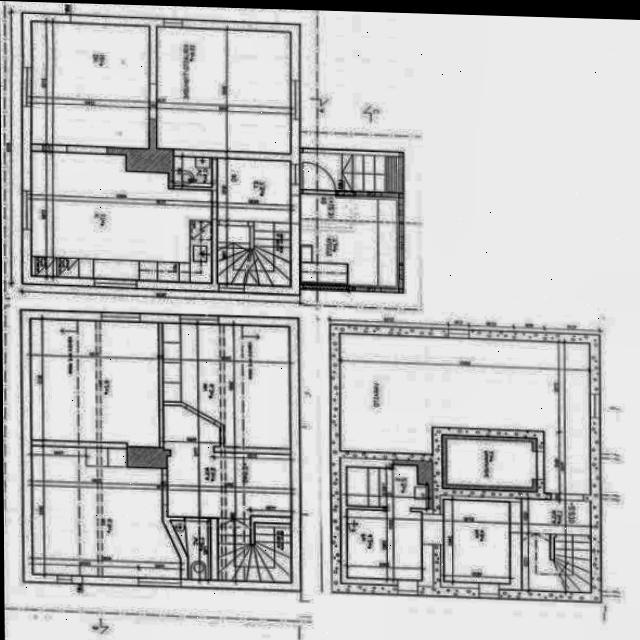room: (28, 445, 185, 578), (152, 26, 295, 153), (30, 318, 160, 446), (161, 323, 292, 448), (297, 193, 402, 287), (445, 438, 538, 487), (174, 155, 212, 186)
